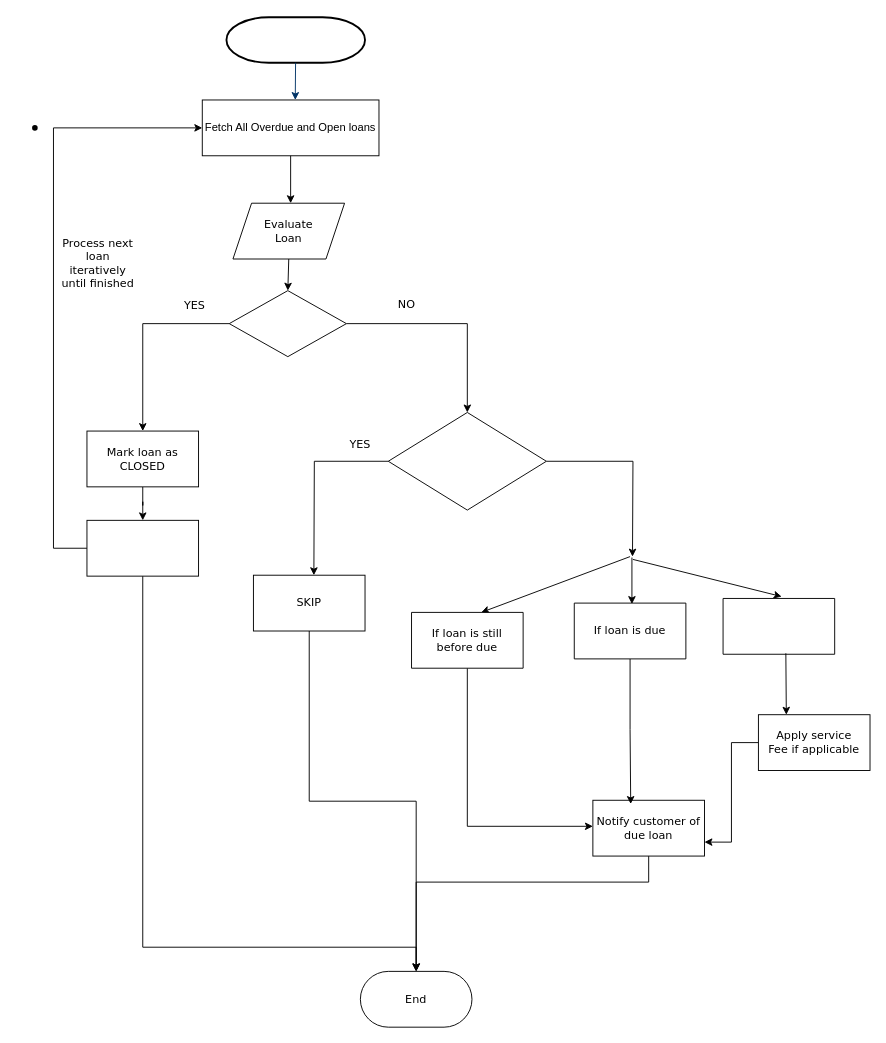
The diagram is 886 pixels wide and 1043 high, and some of its shapes have lost their labels. The centre of each missing label's shape, as x and y in pixels:
"If loan is past due" goes at [778,626].
"Is loan before due of grace period ?" goes at [466,461].
"Is loan fully paid?" goes at [287,323].
"Scheduler Start (at midnight)" goes at [295,39].
"Send notification" goes at [142,547].
